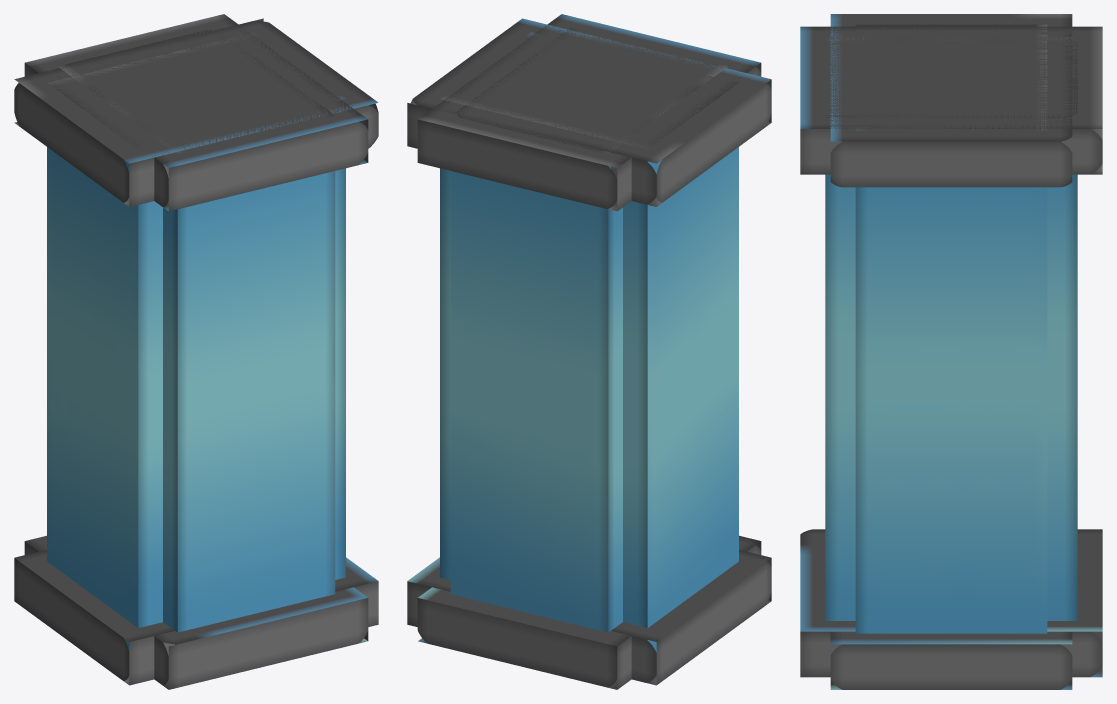
File: Tube_Straight.fbx
The picture shows the model from 3 angles, left to right: view 1: azimuth 30°, elevation 25°; view 2: azimuth 150°, elevation 25°; view 3: azimuth 270°, elevation 25°; orthographic projection. The views are drawn at different scales.
Visible parts, largest first — view 1: cube_1, cube, cube_4, cube_5, cube_3, cube_2; view 2: cube_1, cube, cube_5, cube_4, cube_3, cube_2; view 3: cube, cube_1, cube_4, cube_5, cube_2, cube_3.
Part boxes in pixels (left/top/right/bottom): cube_1: left=58, top=30, right=335, bottom=644; cube: left=47, top=32, right=345, bottom=651; cube_4: left=14, top=18, right=378, bottom=206; cube_5: left=24, top=14, right=368, bottom=211; cube_3: left=24, top=535, right=368, bottom=689; cube_2: left=14, top=550, right=378, bottom=685; cube_1: left=450, top=28, right=727, bottom=632; cube: left=440, top=32, right=738, bottom=652; cube_5: left=417, top=14, right=761, bottom=211; cube_4: left=407, top=18, right=771, bottom=206; cube_3: left=417, top=535, right=761, bottom=689; cube_2: left=407, top=550, right=771, bottom=685; cube: left=855, top=24, right=1047, bottom=633; cube_1: left=825, top=37, right=1077, bottom=620; cube_4: left=830, top=14, right=1072, bottom=187; cube_5: left=800, top=26, right=1102, bottom=174; cube_2: left=830, top=631, right=1072, bottom=689; cube_3: left=800, top=529, right=1102, bottom=677.
Bounding box in the file's own units: 18.75 × 37.5 × 18.75.
1 material, 1 textured.
